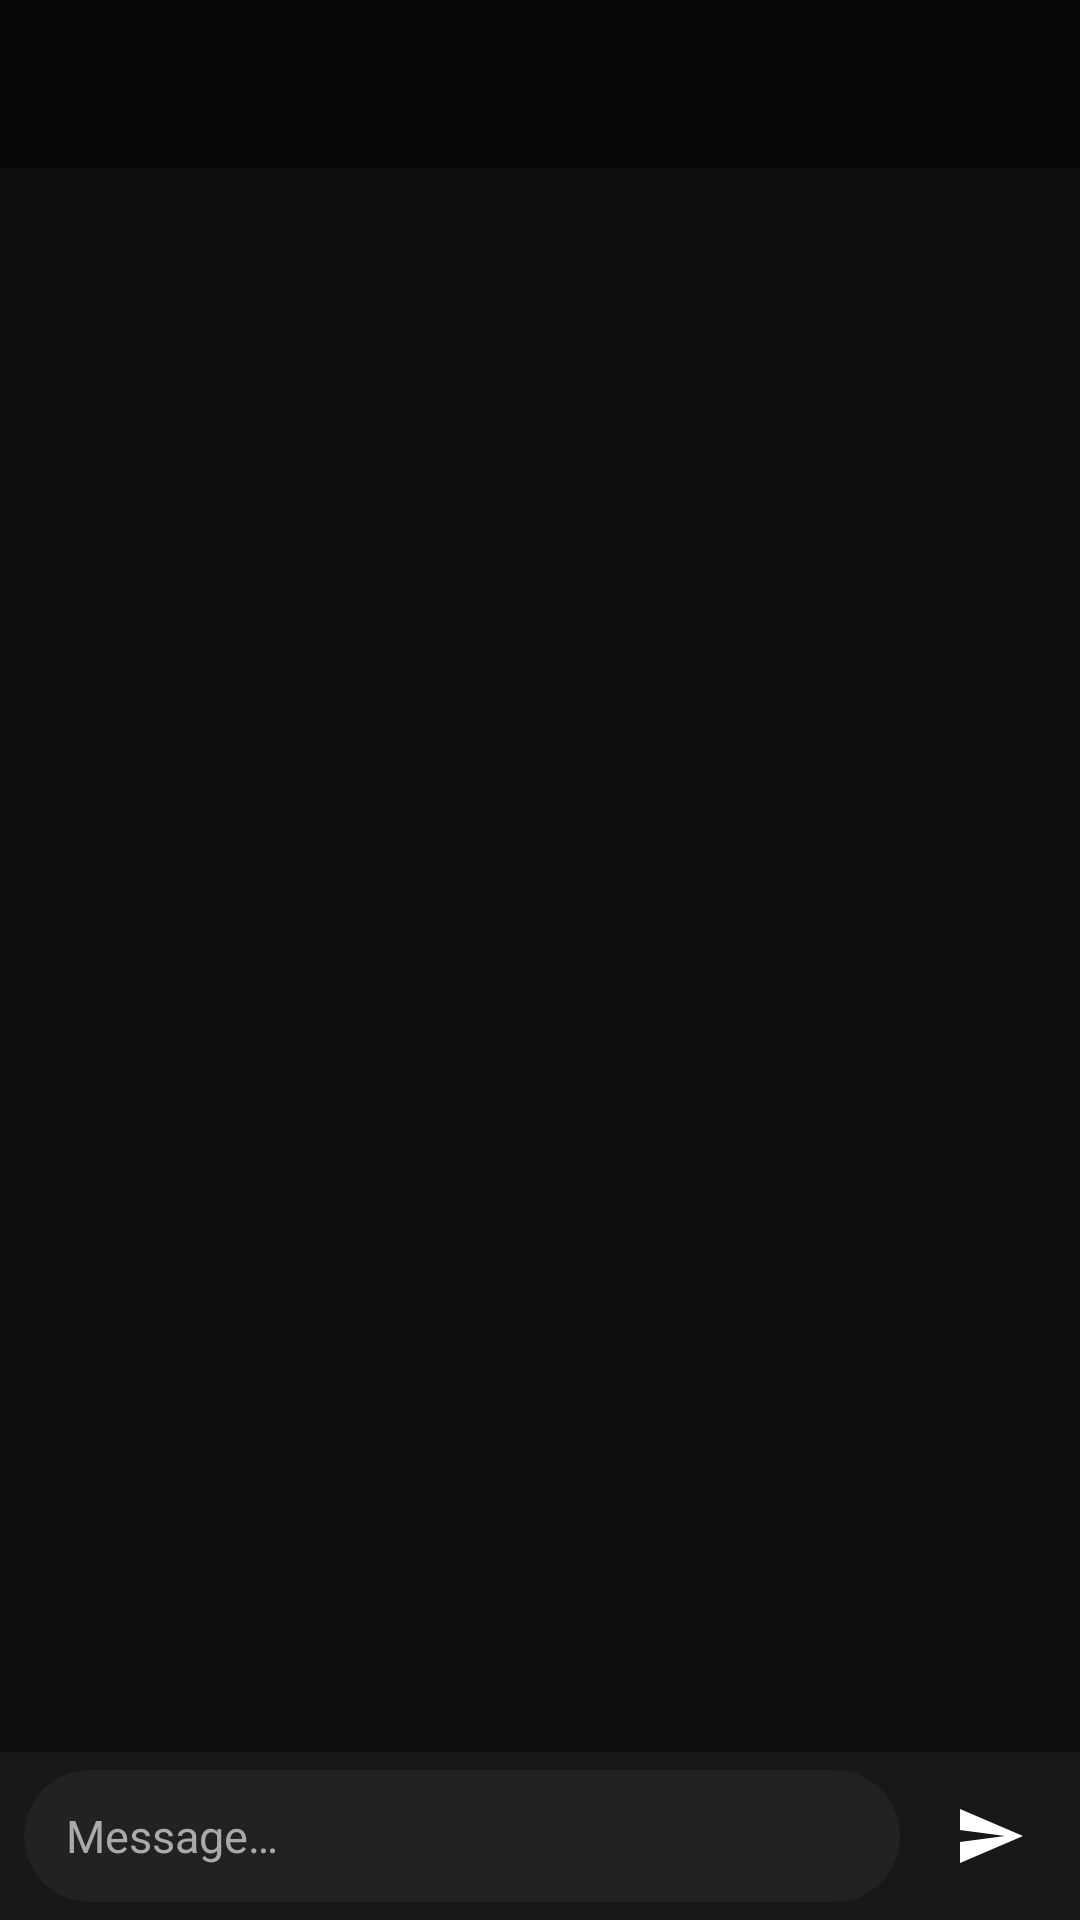

Screen size 1080px x 1920px. Icon name, then its center in pixels as [x,y]:
send: [991,1836]
